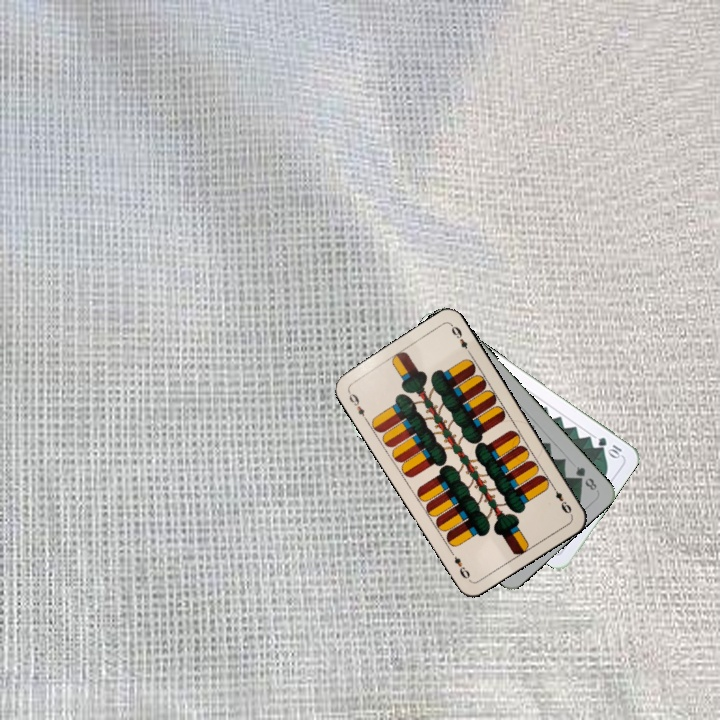E9: (344, 387, 370, 424), (548, 481, 574, 517)
G10: (594, 433, 625, 461)
G8: (571, 462, 600, 493)
